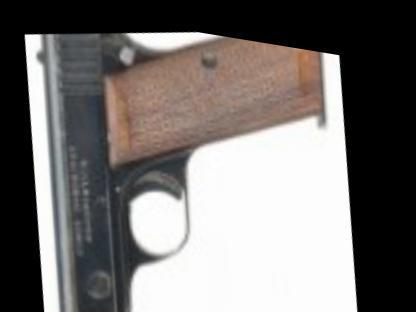pistol: (3, 3, 375, 311)
